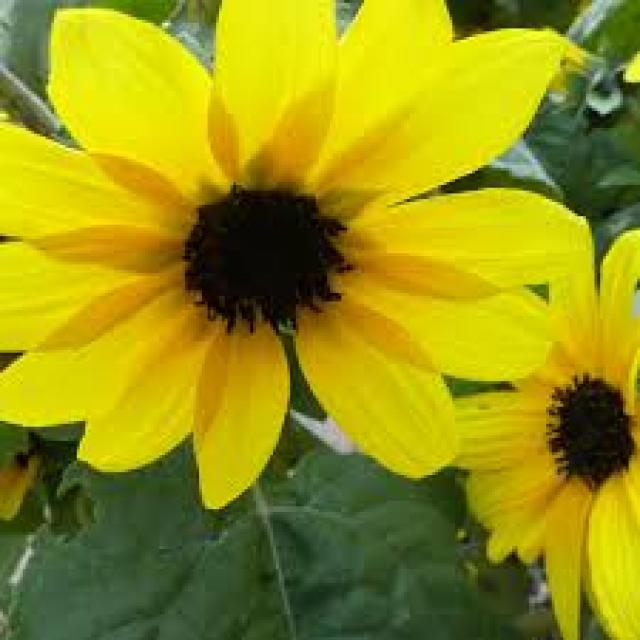sunflower: (0, 1, 603, 519), (435, 205, 640, 637)
